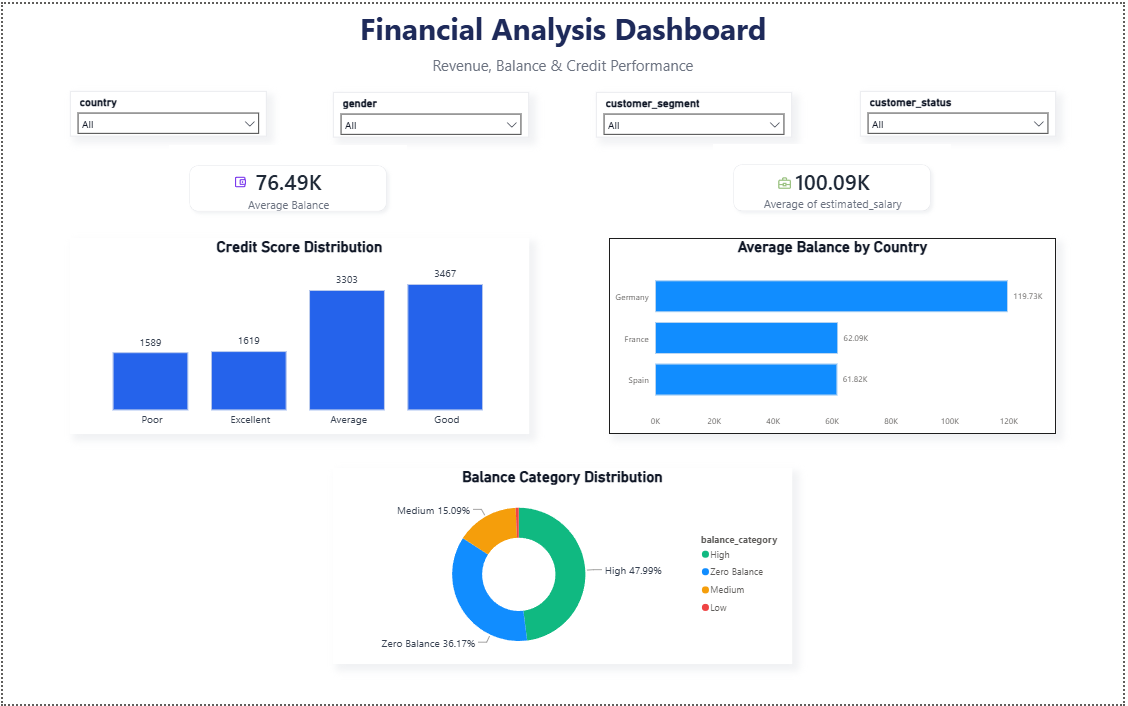

This screenshot's page, from the dashboard's own definition file:
{"tool":"powerbi","page":{"name":"Financial Analysis","canvas":[1600,1000],"ordinal":2},"visuals":[{"type":"textbox","box":[0,0,1600,67.1],"z":0},{"type":"textbox","box":[0,67.1,1600,48.6],"z":1000},{"type":"slicer","fields":{"Values":["customers_processed.country"]},"box":[96,125,281.2,65],"z":2000,"group":"g1"},{"type":"clusteredColumnChart","title":"Credit Score Distribution","fields":{"Category":["customers_processed.credit_score_category"],"Y":["customers_processed.Total Customers"]},"box":[95.7,334.3,655.7,280],"z":2000},{"type":"slicer","fields":{"Values":["customers_processed.gender"]},"box":[472,125.5,280,65],"z":3000,"group":"g1"},{"type":"clusteredBarChart","title":"Average Balance by Country","fields":{"Category":["customers_processed.country"],"Y":["customers_processed.Average Balance"]},"box":[865.7,334.3,638.6,280],"z":3000},{"type":"slicer","fields":{"Values":["customers_processed.customer_status"]},"box":[1224,124.3,280,65],"z":4000,"group":"g1"},{"type":"cardVisual","fields":{"Data":["Avg(customers_processed.estimated_salary)"]},"box":[1014,200,340,125],"z":4000,"group":"g2"},{"type":"cardVisual","fields":{"Data":["customers_processed.Average Balance"]},"box":[237,202,340,125],"z":4000,"group":"g3"},{"type":"donutChart","title":"Balance Category Distribution","fields":{"Category":["customers_processed.balance_category"],"Y":["customers_processed.Total Customers"]},"box":[471.4,662.9,655.7,280],"z":4000},{"type":"group","id":"g1","title":"Group 1","box":[96,124.3,1408,66.2],"z":5000},{"type":"slicer","fields":{"Values":["customers_processed.customer_segment"]},"box":[848,125.5,280,65],"z":5000,"group":"g1"},{"type":"group","id":"g2","title":"Group 2","box":[1014,200,340,125],"z":6000,"group":"g5"},{"type":"group","id":"g3","title":"Group 3","box":[237,202,340,124],"z":6000},{"type":"group","id":"g4","title":"Group 4","box":[1014,200,340,126],"z":7000},{"type":"image","box":[1087.9,246.3,55.7,21.4],"z":7000,"group":"g5"},{"type":"group","id":"g5","title":"Group 5","box":[1014,200,340,125.7],"z":7001,"group":"g4"},{"type":"image","box":[322.7,244.9,32.9,20],"z":8000,"group":"g3"}]}

Visuals, with their boxes in screenshot pixels (x1, y1, x2, y2), scaled from the page's 1600x1000 canvas onto the 1128x706 screenshot:
textbox: Rect(0, 0, 1127, 47)
textbox: Rect(0, 47, 1127, 82)
slicer - customers_processed.country: Rect(68, 88, 266, 134)
"Credit Score Distribution" clusteredColumnChart: Rect(67, 236, 530, 434)
slicer - customers_processed.gender: Rect(333, 89, 530, 134)
"Average Balance by Country" clusteredBarChart: Rect(610, 236, 1061, 434)
slicer - customers_processed.customer_status: Rect(863, 88, 1060, 134)
cardVisual - Avg(customers_processed.estimated_salary): Rect(715, 141, 955, 229)
cardVisual - customers_processed.Average Balance: Rect(167, 143, 407, 231)
"Balance Category Distribution" donutChart: Rect(332, 468, 795, 666)
"Group 1" group: Rect(68, 88, 1060, 134)
slicer - customers_processed.customer_segment: Rect(598, 89, 795, 134)
"Group 2" group: Rect(715, 141, 955, 229)
"Group 3" group: Rect(167, 143, 407, 230)
"Group 4" group: Rect(715, 141, 955, 230)
image: Rect(767, 174, 806, 189)
"Group 5" group: Rect(715, 141, 955, 230)
image: Rect(228, 173, 251, 187)
